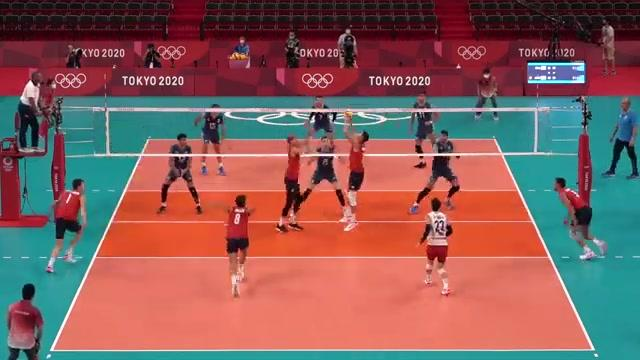ball: (341, 109, 354, 120)
